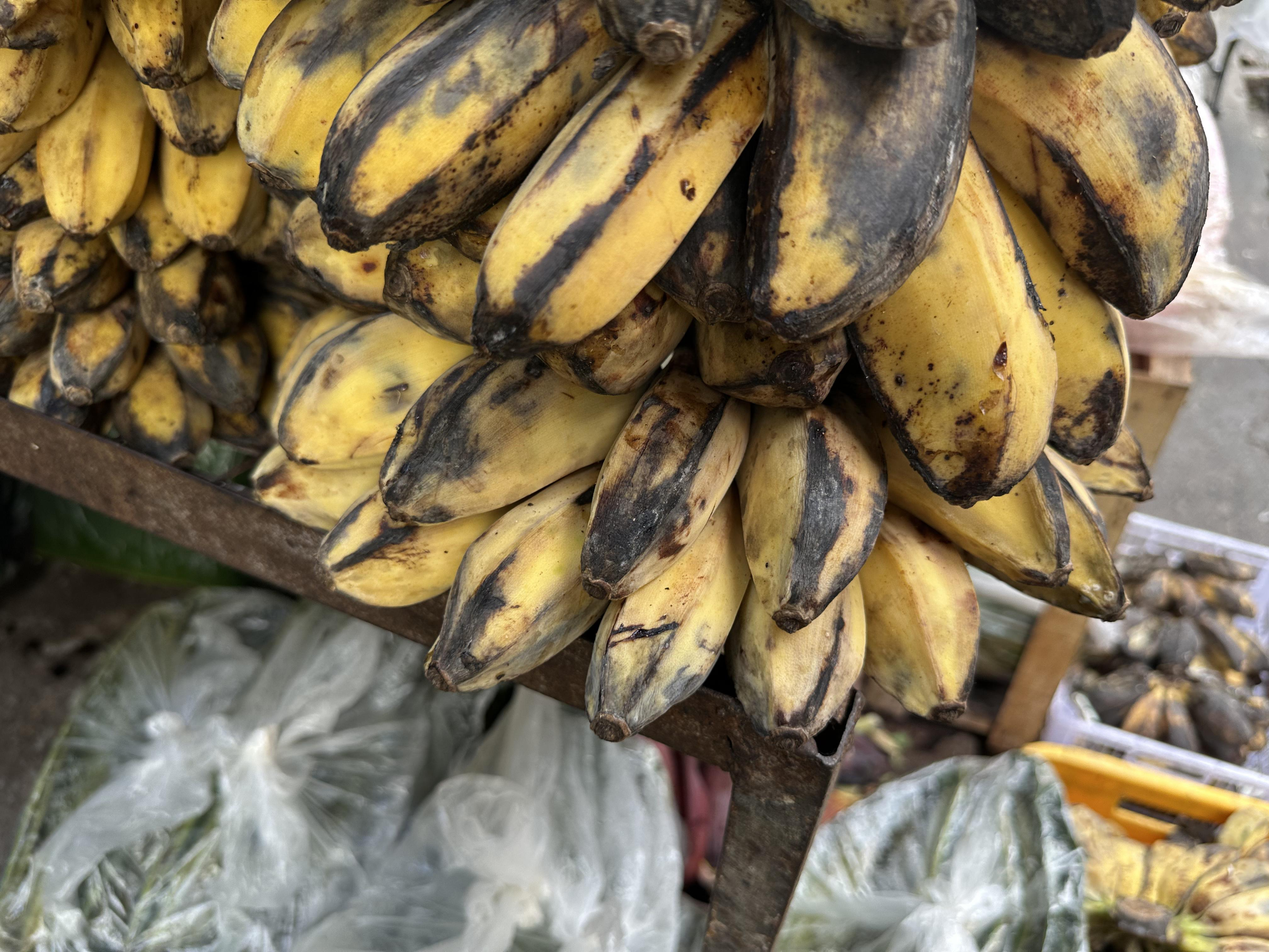ripe: (208, 0, 1208, 506), (255, 309, 1124, 742), (0, 0, 264, 271), (0, 217, 268, 462), (1137, 0, 1239, 66)
